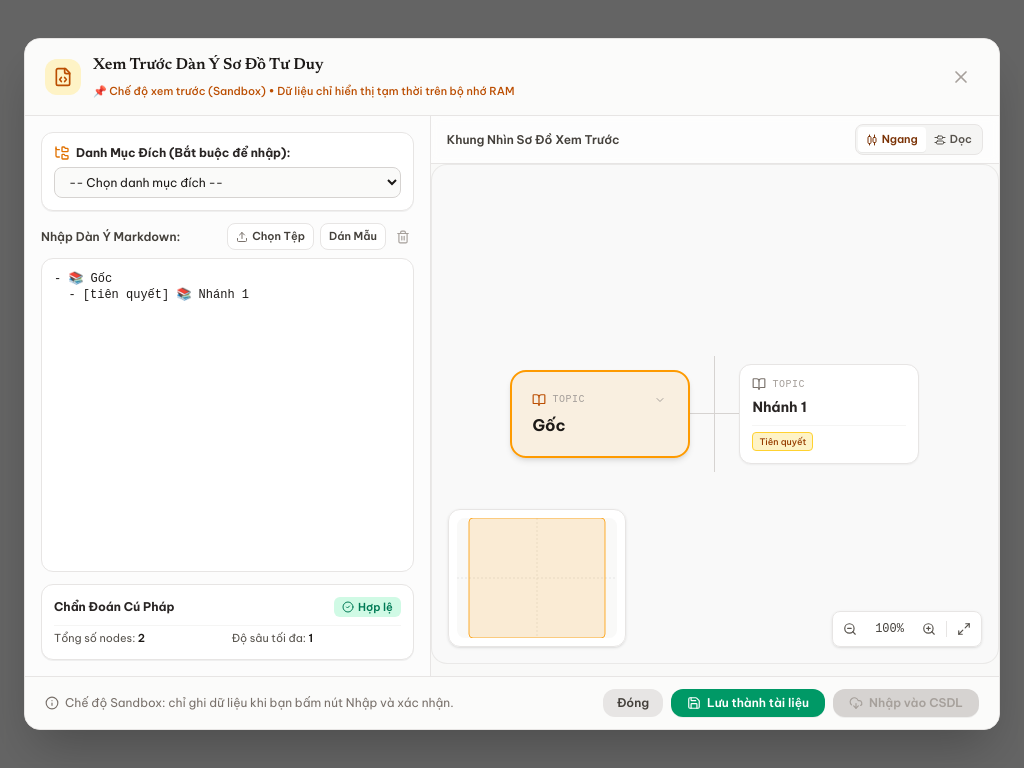
Test: Phase I2: Mind Map Preview-Only Sandbox Modal › Scenario 10: Canceling confirmation dialog performs zero-write
Select "Phật Học" in the dropdown with test id "import-target-category-select": (227, 183) [54,167,401,198]
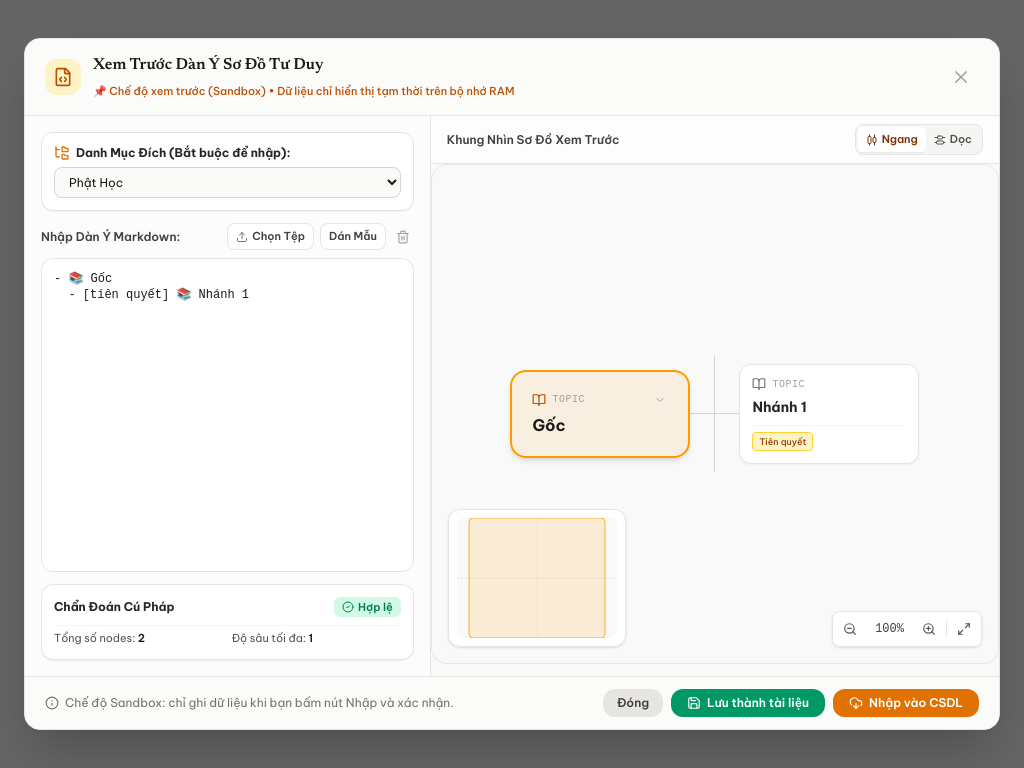
Click the button with test id "btn-trigger-import": (906, 703) [833,689,979,717]
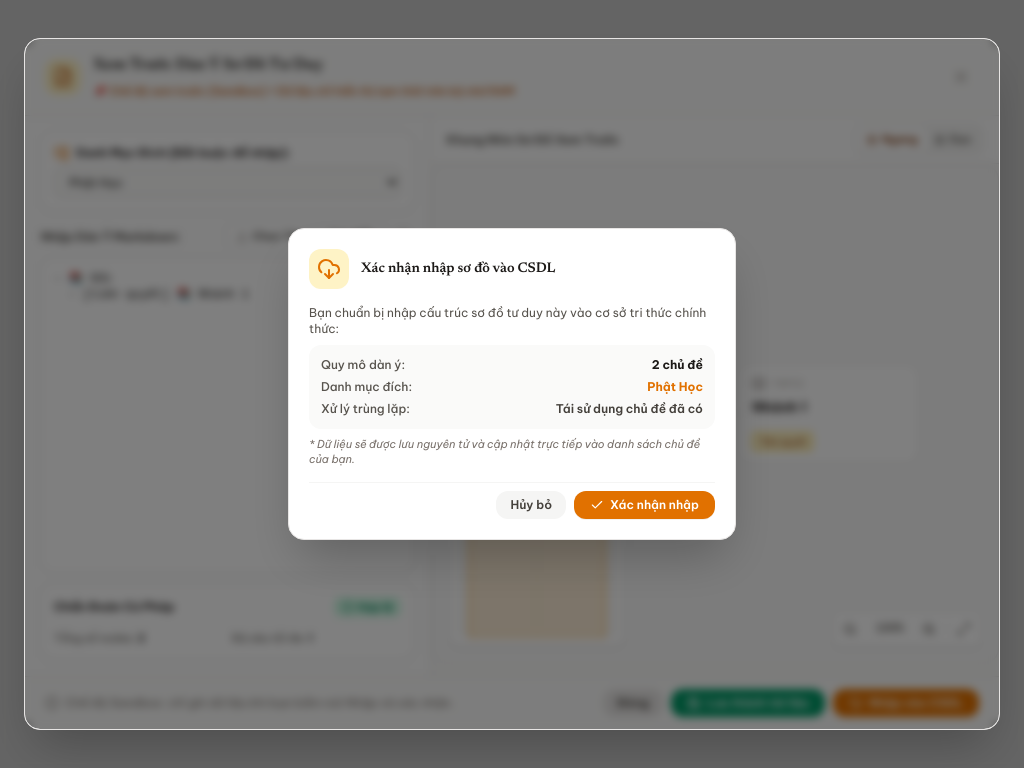
Click the button with test id "btn-cancel-import-confirm": (531, 505) [496,491,566,519]
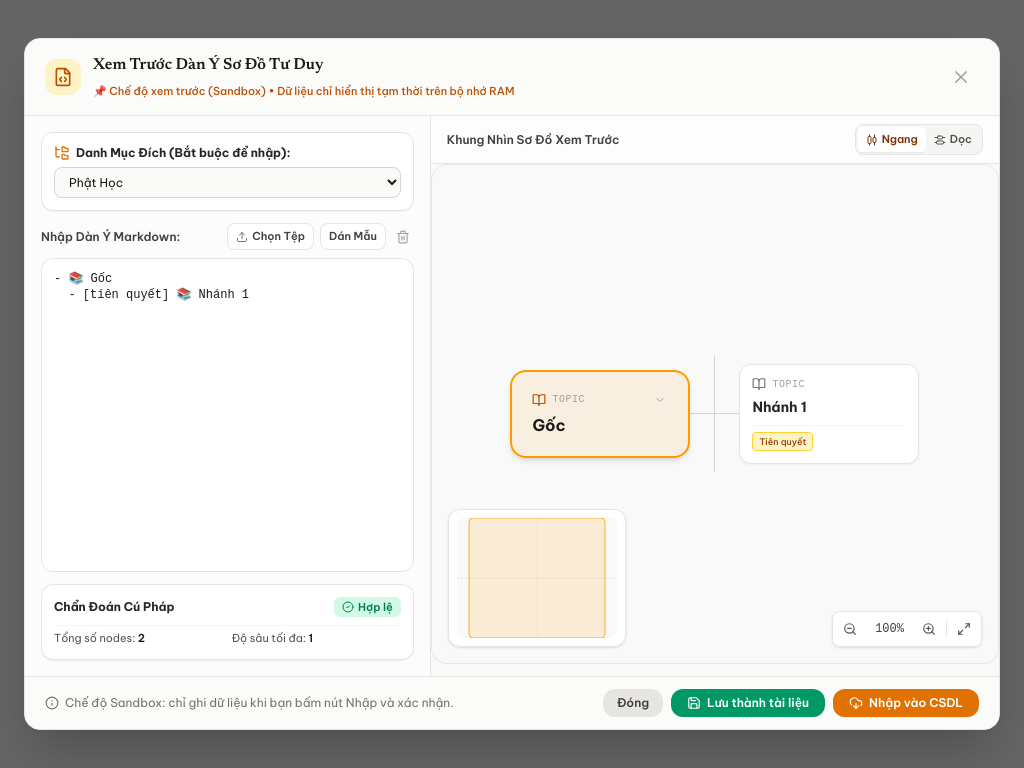
Now the element with test id "import-confirm-dialog" is gone
